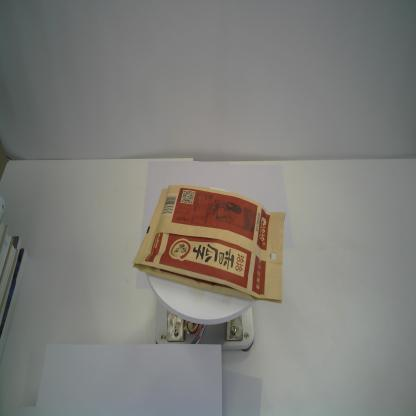Dried Food: (130, 182, 287, 306)
